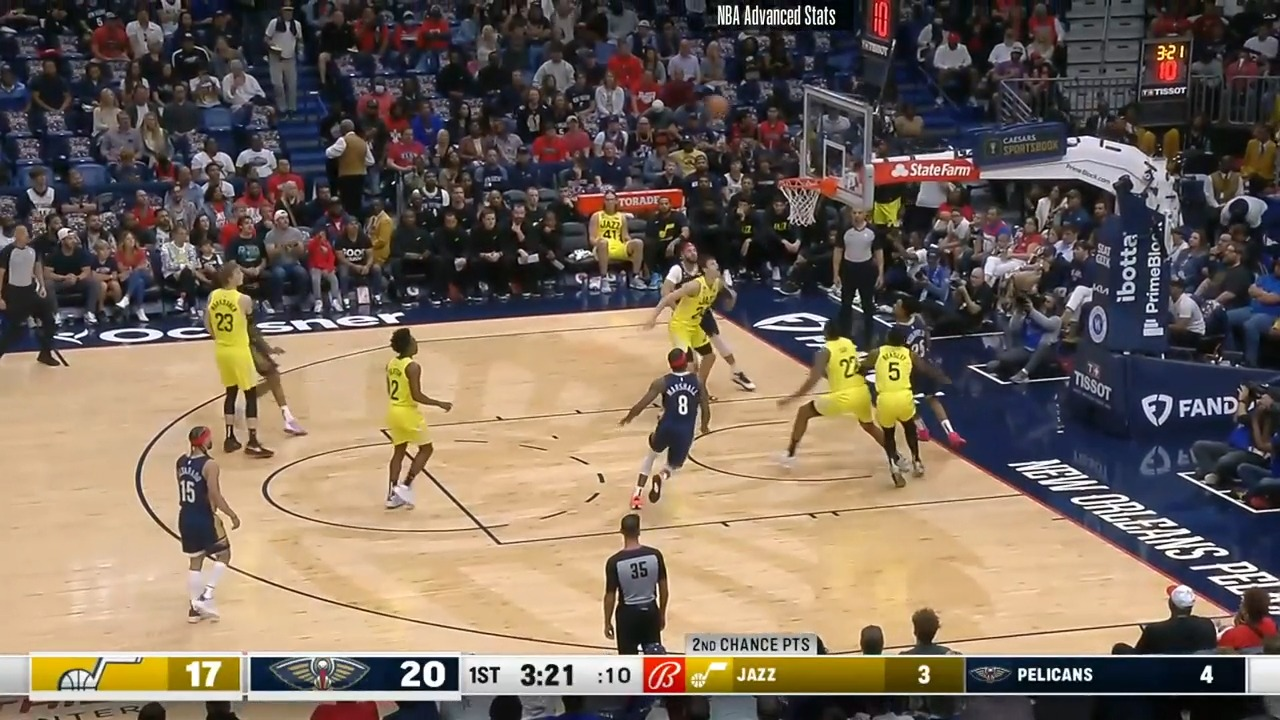net: (780, 172, 842, 229)
player: (777, 316, 900, 478), (851, 324, 955, 489), (624, 343, 720, 508), (170, 422, 242, 628), (380, 324, 453, 512), (662, 238, 755, 379), (642, 255, 726, 403), (212, 268, 276, 461), (896, 295, 966, 448)
referee: (599, 509, 668, 655), (1, 226, 65, 376), (832, 207, 884, 339)
